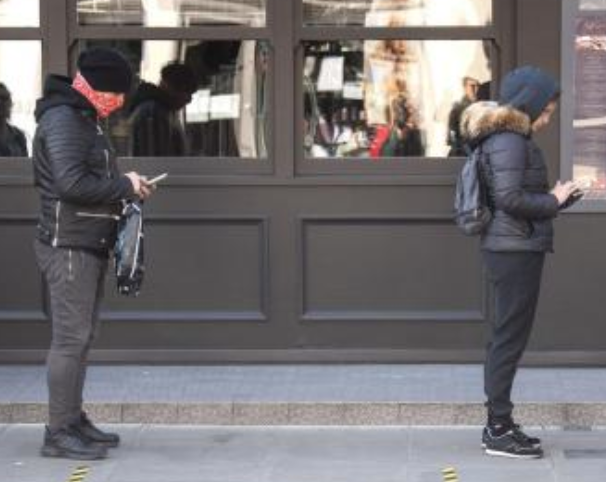Good: (22, 42, 581, 459)
